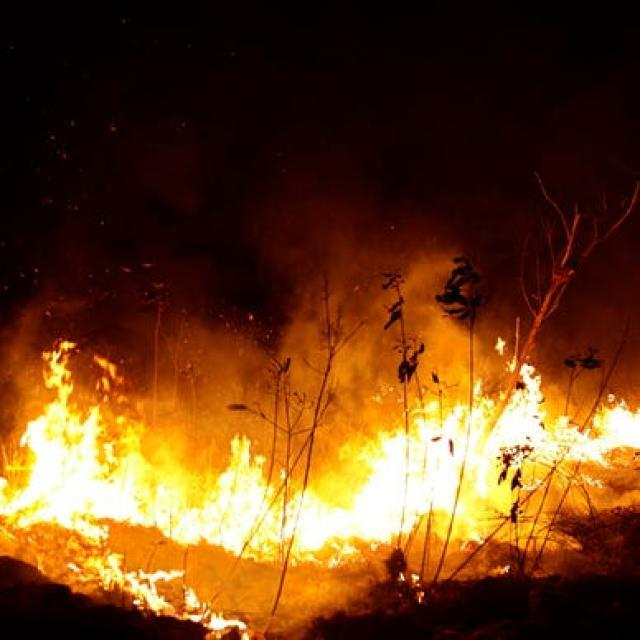Fire: (15, 357, 342, 640), (343, 370, 639, 596)
Smoke: (142, 226, 470, 390)
